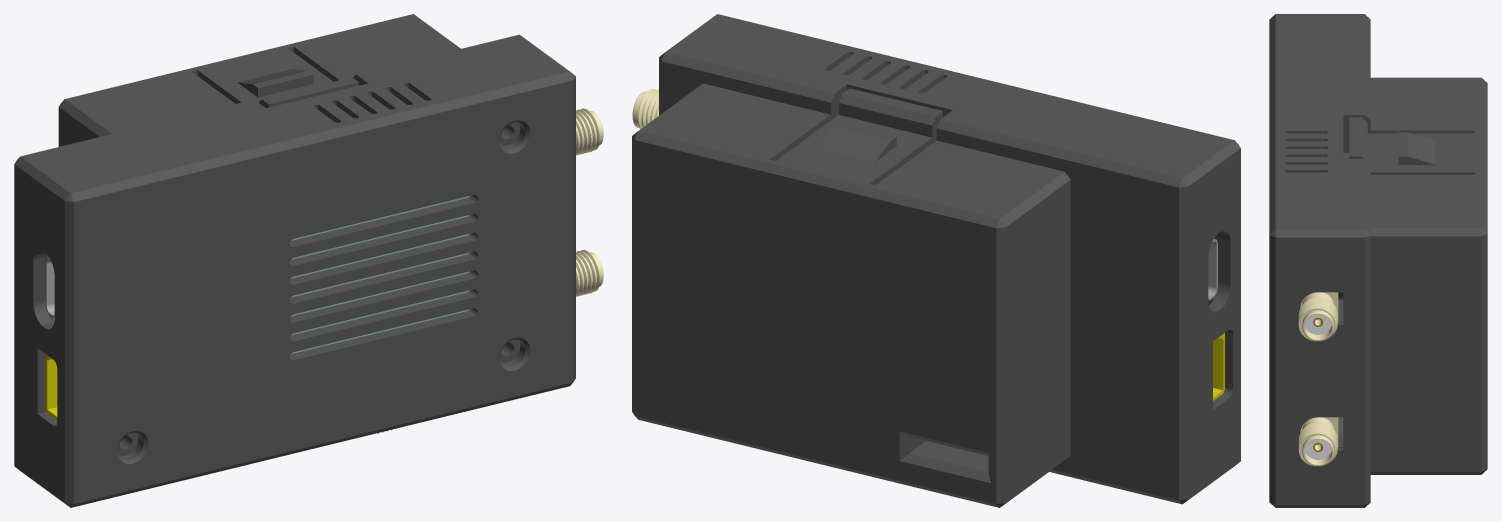
The model's file is TenetTX.glb.
The picture shows the model from 3 angles, left to right: view 1: azimuth 30°, elevation 25°; view 2: azimuth 150°, elevation 25°; view 3: azimuth 270°, elevation 25°; orthographic projection. The views are drawn at different scales.
Visible parts, largest first — view 1: Top-1, Bottom-1, RAF1-Transmitter_PCB.step-1, SMA-TH_5P-L6.5-W6.5-H9.5_BWSMA-KE-P001.step-2, SMA-TH_5P-L6.5-W6.5-H9.5_BWSMA-KE-P001.step-1, CONN-TH_XT30PW-M.step-1; view 2: Bottom-1, Top-1, SMA-TH_5P-L6.5-W6.5-H9.5_BWSMA-KE-P001.step-2, CONN-TH_XT30PW-M.step-1; view 3: Bottom-1, Top-1, SMA-TH_5P-L6.5-W6.5-H9.5_BWSMA-KE-P001.step-1, SMA-TH_5P-L6.5-W6.5-H9.5_BWSMA-KE-P001.step-2.
Boxes of the visible parts, box(x1,y1,x2,y2) form: Top-1: box(26, 43, 575, 507); Bottom-1: box(14, 14, 531, 478); RAF1-Transmitter_PCB.step-1: box(48, 196, 469, 353); SMA-TH_5P-L6.5-W6.5-H9.5_BWSMA-KE-P001.step-2: box(576, 108, 603, 155); SMA-TH_5P-L6.5-W6.5-H9.5_BWSMA-KE-P001.step-1: box(576, 250, 603, 296); CONN-TH_XT30PW-M.step-1: box(45, 354, 57, 419); Bottom-1: box(632, 43, 1201, 507); Top-1: box(678, 14, 1240, 492); SMA-TH_5P-L6.5-W6.5-H9.5_BWSMA-KE-P001.step-2: box(632, 89, 658, 129); CONN-TH_XT30PW-M.step-1: box(1213, 333, 1224, 400); Bottom-1: box(1338, 14, 1487, 507); Top-1: box(1269, 14, 1343, 507); SMA-TH_5P-L6.5-W6.5-H9.5_BWSMA-KE-P001.step-1: box(1298, 417, 1338, 466); SMA-TH_5P-L6.5-W6.5-H9.5_BWSMA-KE-P001.step-2: box(1298, 292, 1338, 341).
Size of the model in its own units: 0.0922 by 0.0514 by 0.0355.
